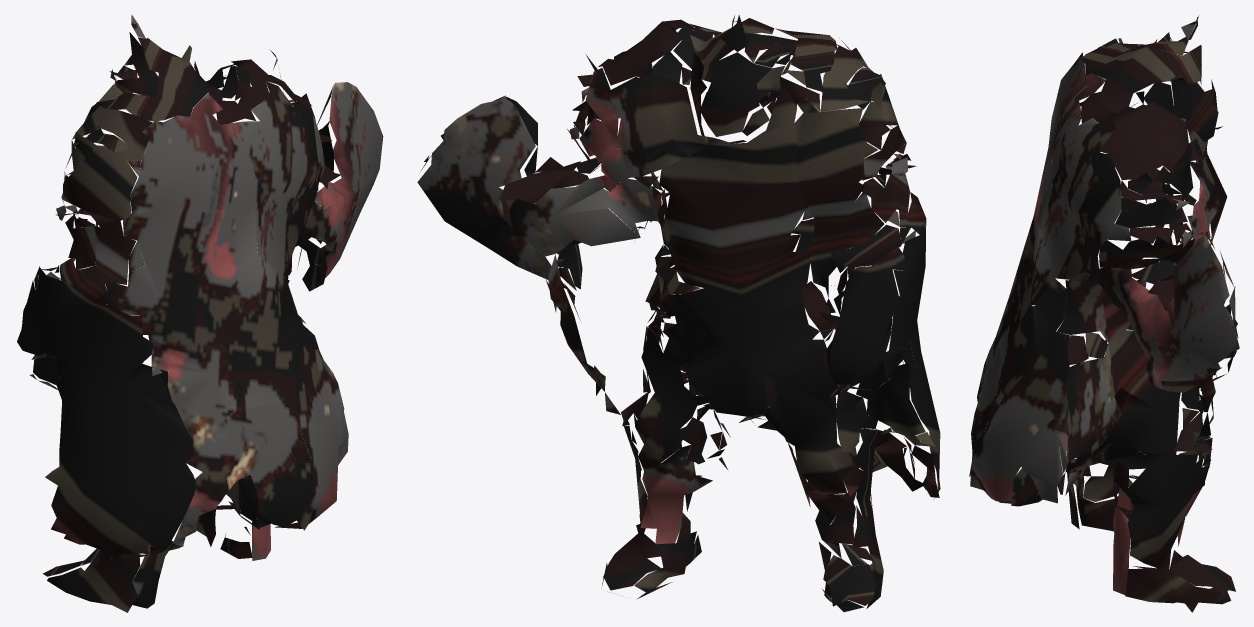
The picture shows the model from 3 angles, left to right: view 1: azimuth 30°, elevation 25°; view 2: azimuth 150°, elevation 25°; view 3: azimuth 270°, elevation 25°; orthographic projection. The views are drawn at different scales.
Parts seen in each view (by area): view 1: body.002; view 2: body.002; view 3: body.002.
Boxes of the visible parts, x1,y1,x2,y2 form: body.002: (17, 14, 383, 612); body.002: (417, 15, 940, 611); body.002: (969, 16, 1239, 612).
Bounding box in the file's own units: 1.57 × 2.01 × 0.9095.
Materials: 1 (1 with a texture image).
